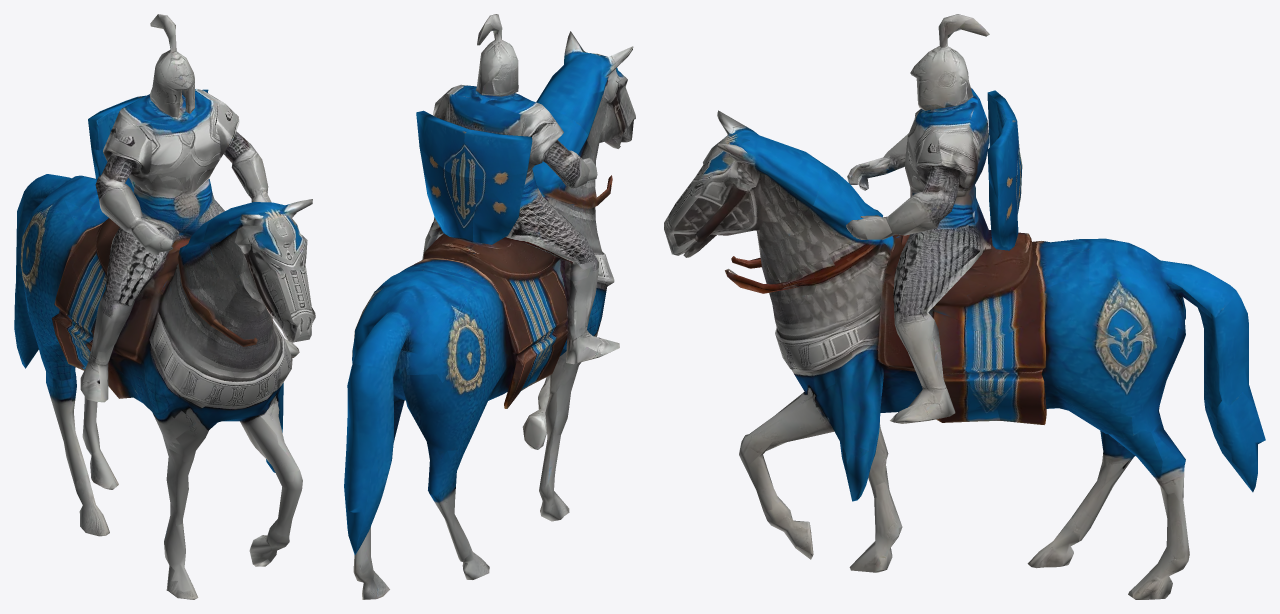
Rendered from hero_player.glb.
3 views of the same model, side by side, from view 1: azimuth 30°, elevation 25°; view 2: azimuth 150°, elevation 25°; view 3: azimuth 270°, elevation 25° (orthographic). The views are drawn at different scales.
Bounding box in the file's own units: 0.7789 × 1.9 × 1.83.
Materials: 1 (1 with a texture image).
